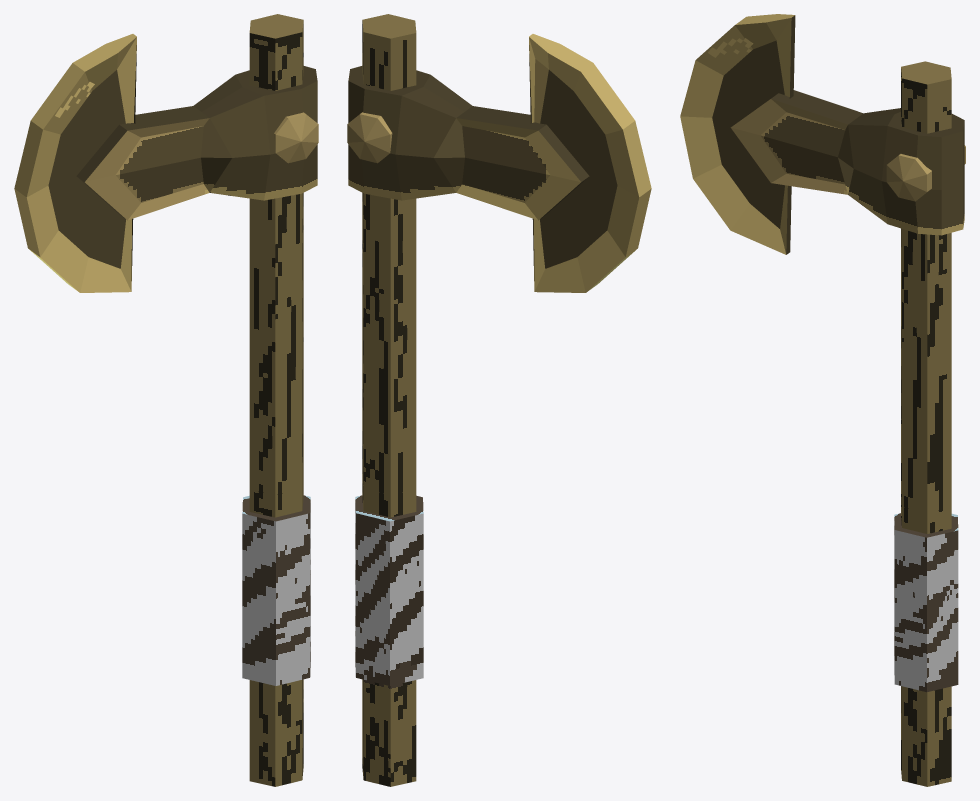
File: M_Woodcutting_BasicAxe.gltf
3 views of the same model, side by side, from view 1: azimuth 30°, elevation 25°; view 2: azimuth 150°, elevation 25°; view 3: azimuth 330°, elevation 25° (orthographic). The views are drawn at different scales.
Parts seen in each view (by area): view 1: cylinder (×4), cuboid; view 2: cylinder (×4), cuboid; view 3: cylinder (×4), cuboid.
Part boxes in pixels (box(x1,y1,x2,y2)): cylinder (×4): box(14, 14, 318, 786); cuboid: box(76, 66, 317, 220); cylinder (×4): box(347, 14, 651, 786); cuboid: box(348, 66, 589, 220); cylinder (×4): box(680, 14, 965, 786); cuboid: box(730, 90, 964, 235).
Bounding box in the file's own units: 0.2582 × 0.6465 × 0.075.
5 materials, 5 textured.
